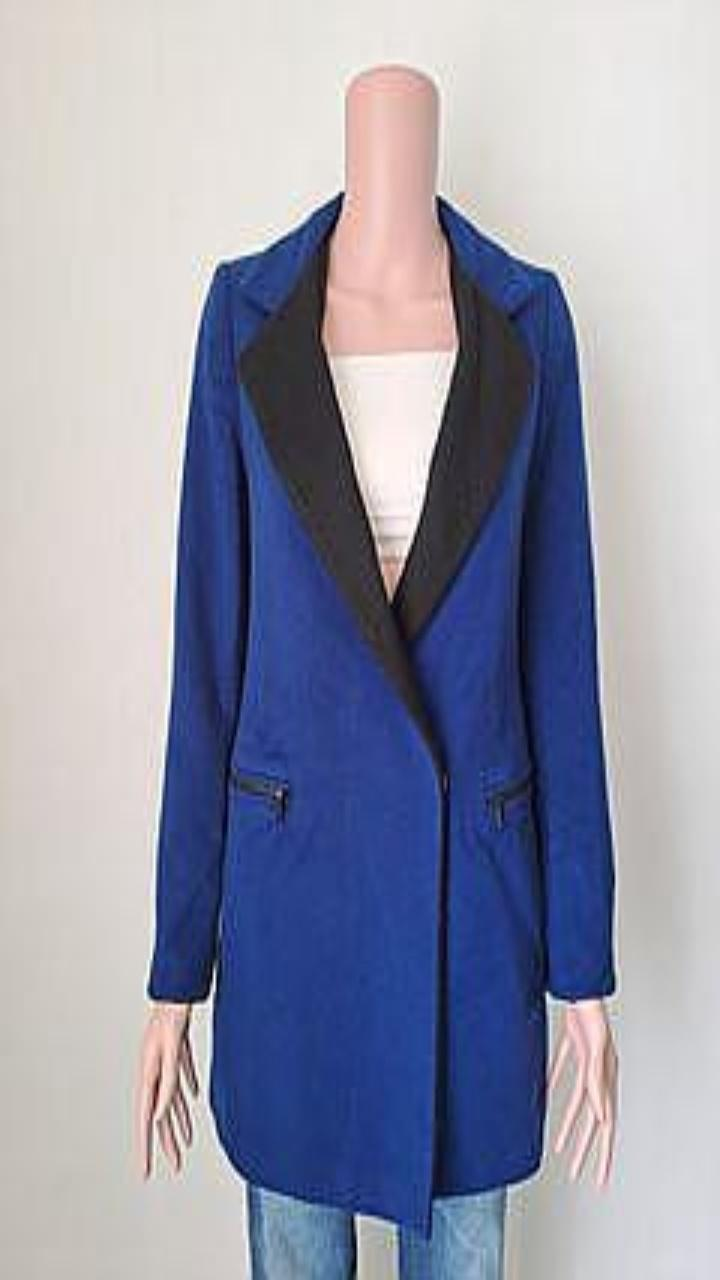Coat: (147, 190, 615, 1236)
Jeans: (396, 1187, 506, 1279)
